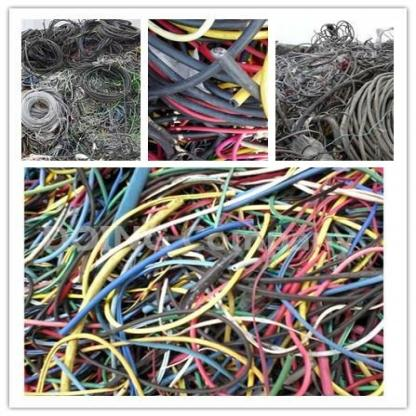wires: (21, 19, 392, 396)
